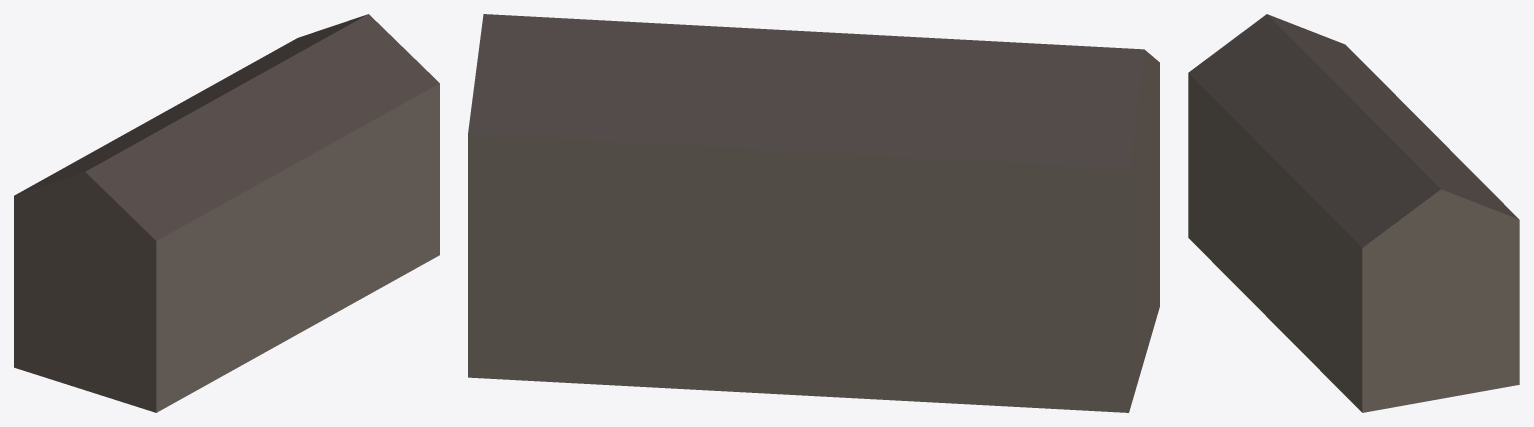
The picture shows the model from 3 angles, left to right: view 1: azimuth 30°, elevation 25°; view 2: azimuth 150°, elevation 25°; view 3: azimuth 270°, elevation 25°; orthographic projection. The views are drawn at different scales.
Visible parts, largest first — view 1: HP-w1365659889; view 2: HP-w1365659889; view 3: HP-w1365659889.
Boxes of the visible parts, <box> form: HP-w1365659889: <box>14,14,439,412</box>; HP-w1365659889: <box>468,14,1159,412</box>; HP-w1365659889: <box>1188,14,1519,412</box>.
Bounding box in the file's own units: 15.87 × 7.63 × 10.93.
